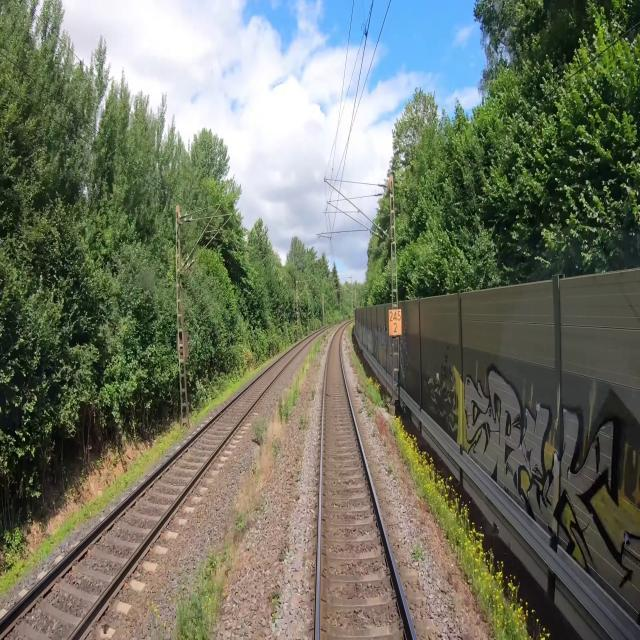Plant: (147, 329, 329, 639), (356, 383, 373, 417), (266, 590, 282, 625), (411, 543, 424, 561), (298, 410, 310, 428), (308, 387, 316, 402)
